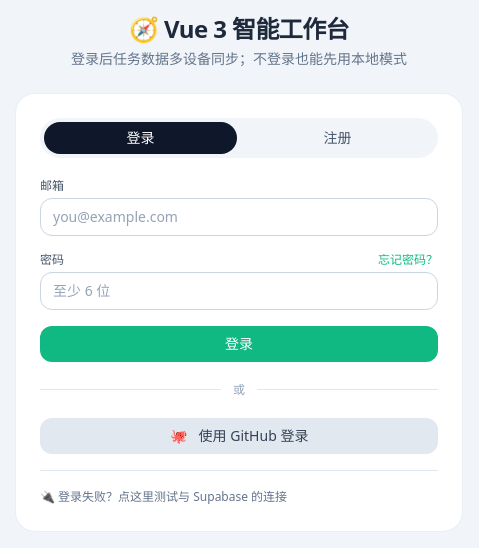
Test: Login 页 › 忘记密码 › 可以返回登录模式
What coordinates should you click on to do the following:
click the button with test id "login-forgot-password"
I would click on:
 (408, 260)
Its box is 378,252 -> 438,268.
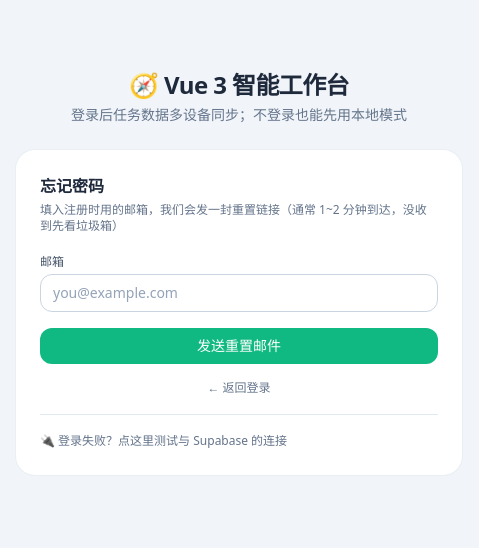
What coordinates should you click on to do the following:
click the button with test id "login-back-to-signin"
I would click on:
 (239, 388)
Its box is 40,380 -> 438,396.
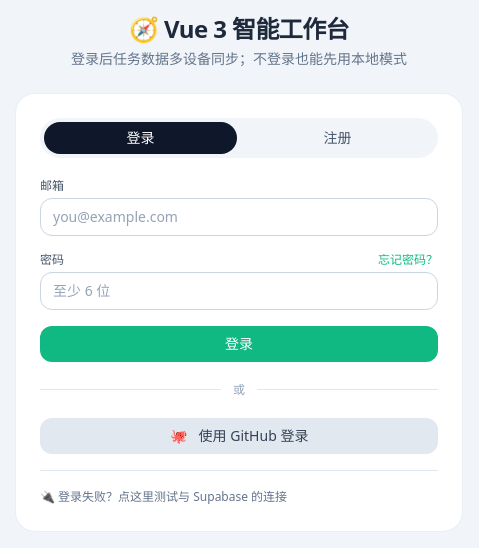
Check: the button with test id "login-tab-signin" is shown, box 44,122 -> 237,154
Check: the element with test id "login-password" is shown, box 40,272 -> 438,310
